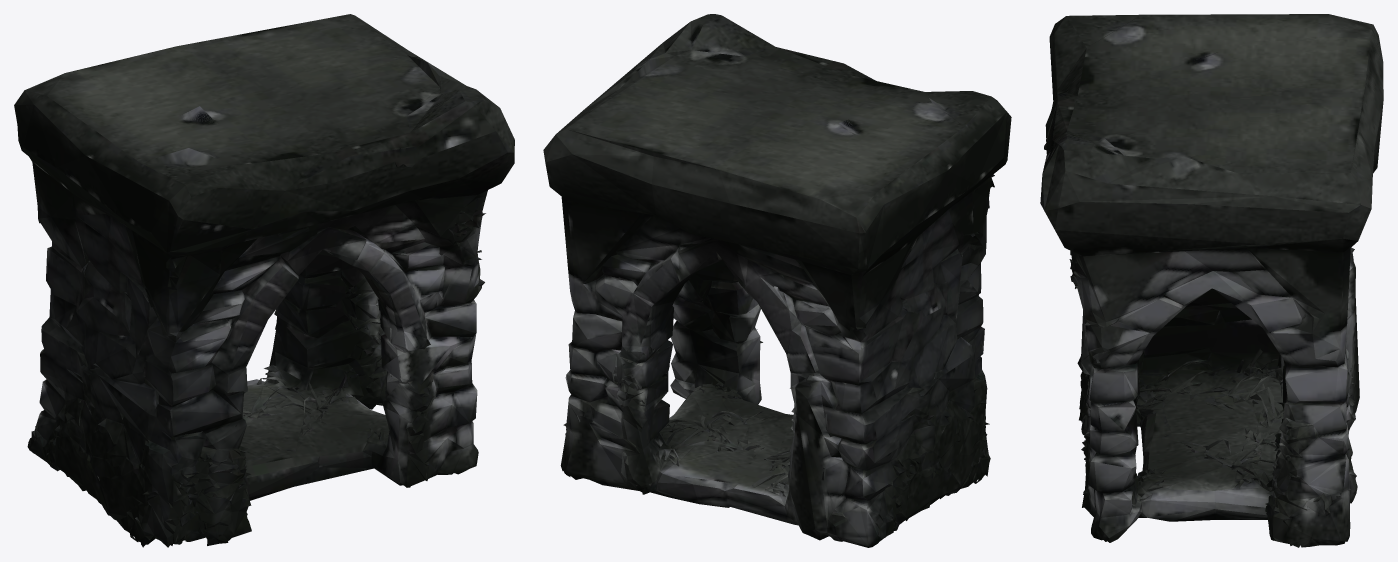
Rendered from basalt_small_02.glb.
3 views of the same model, side by side, from view 1: azimuth 30°, elevation 25°; view 2: azimuth 150°, elevation 25°; view 3: azimuth 270°, elevation 25° (orthographic). The views are drawn at different scales.
Visible parts, largest first — view 1: geometry_0; view 2: geometry_0; view 3: geometry_0.
Part boxes in pixels (<box>): geometry_0: <box>14,14,514,547</box>; geometry_0: <box>543,14,1011,547</box>; geometry_0: <box>1040,14,1383,547</box>.
Size of the model in its own units: 0.9517 by 0.9969 by 0.7813.
Materials: 1 (1 with a texture image).
